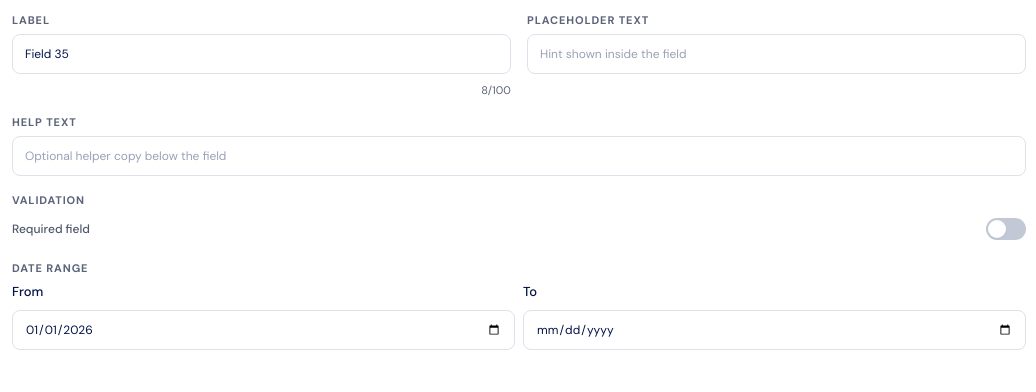
Test: FieldInlineEditor: date range › flags a reversed range inline and does not save it; a valid range is saved (QA A4-002)
This screenshot has width=1036, height=392.
In the date field labelled "To": (774,330) [523,310,1026,350], type "2026-06-30"
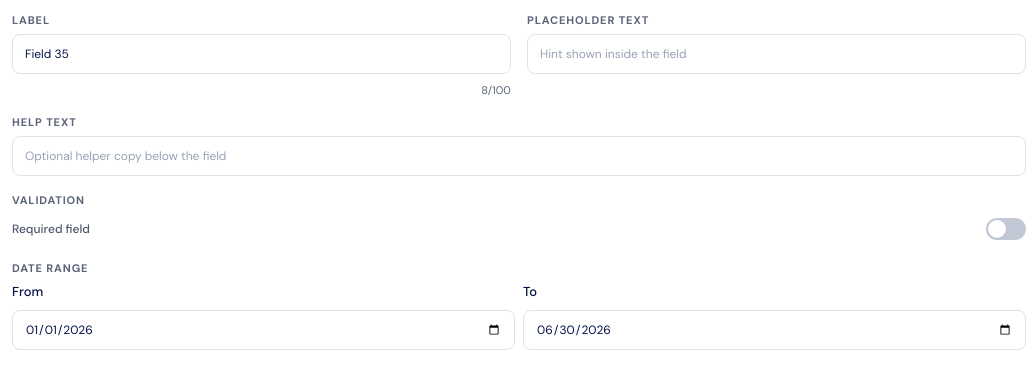
In the date field labelled "From": (264,330) [12,310,515,350], type "2026-12-31"
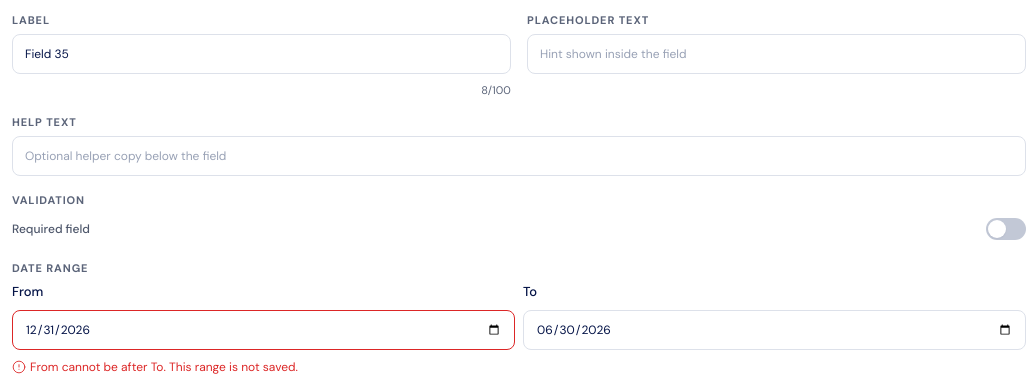
Expected: the text "From cannot be after To. This range is not saved." is shown, [12,359,298,375]
In the date field labelled "From": (264,330) [12,310,515,350], type "2026-02-01"
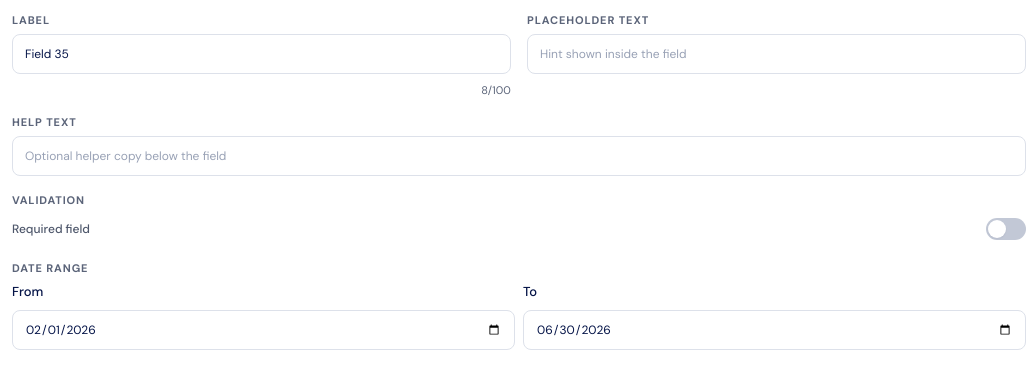
Expected: the text "This range is not saved" is gone
